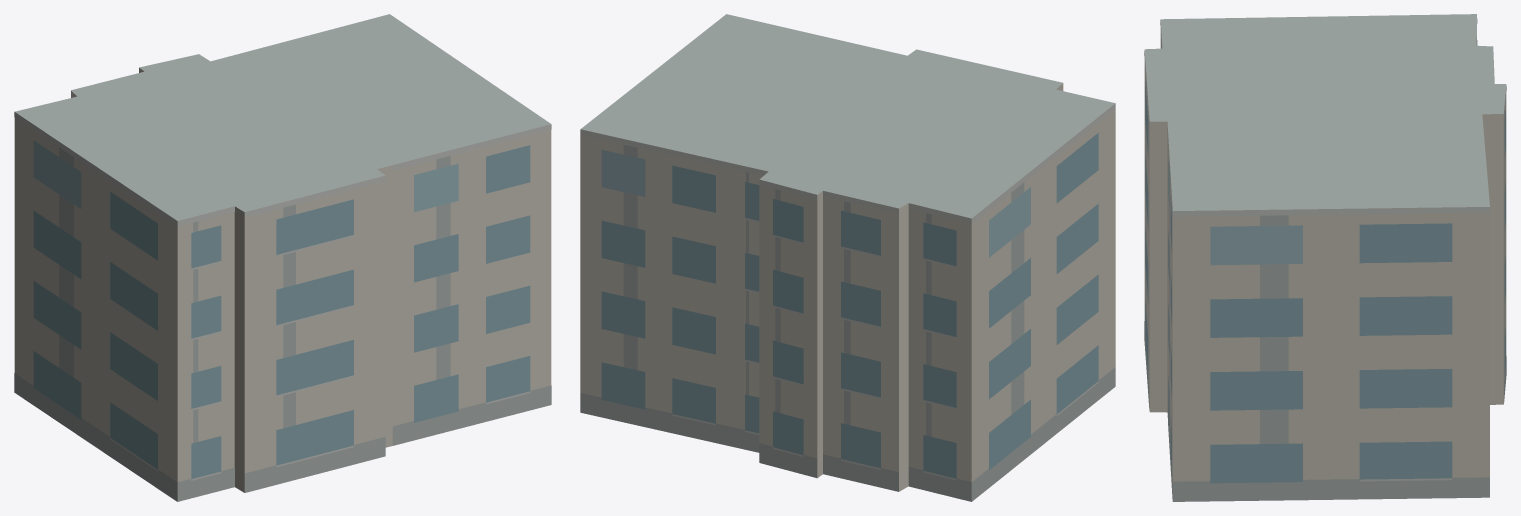
File: survey-upis-32558173.glb
3 renders of one model, left to right at view 1: azimuth 30°, elevation 25°; view 2: azimuth 150°, elevation 25°; view 3: azimuth 270°, elevation 25°, orthographic. The views are drawn at different scales.
Visible parts, largest first — view 1: survey-upis-32558173.tmp; view 2: survey-upis-32558173.tmp; view 3: survey-upis-32558173.tmp.
Boxes of the visible parts, <box> form: survey-upis-32558173.tmp: <box>14,14,551,501</box>; survey-upis-32558173.tmp: <box>580,14,1115,501</box>; survey-upis-32558173.tmp: <box>1144,14,1506,501</box>.
Size of the model in its own units: 17.74 by 12.2 by 13.77.
